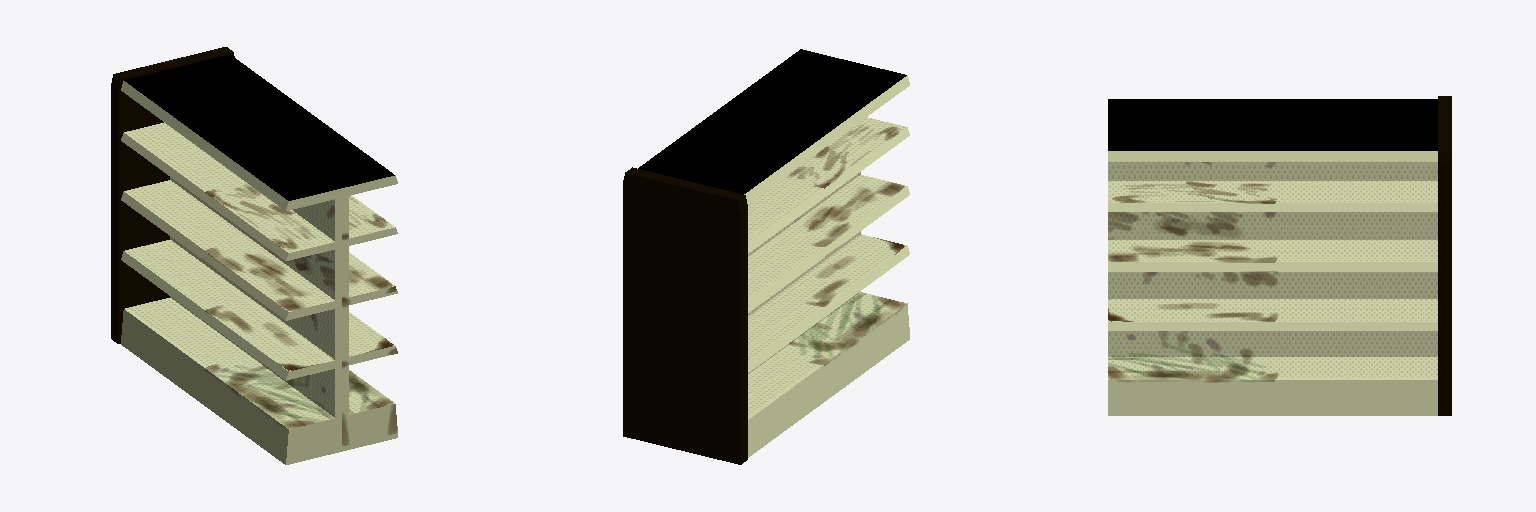
3 renders of one model, left to right at view 1: azimuth 30°, elevation 25°; view 2: azimuth 150°, elevation 25°; view 3: azimuth 270°, elevation 25°, orthographic.
Parts seen in each view (by area): view 1: Shelf, Divider; view 2: Shelf, Divider; view 3: Shelf, Divider.
Boxes of the visible parts, <box> form: Shelf: <box>121,54,397,464</box>; Divider: <box>111,47,234,343</box>; Shelf: <box>638,49,909,457</box>; Divider: <box>623,167,747,464</box>; Shelf: <box>1108,99,1437,415</box>; Divider: <box>1438,96,1451,415</box>.
Bounding box in the file's own units: 3.48 × 7.49 × 8.83.
Materials: 2 (1 with a texture image).